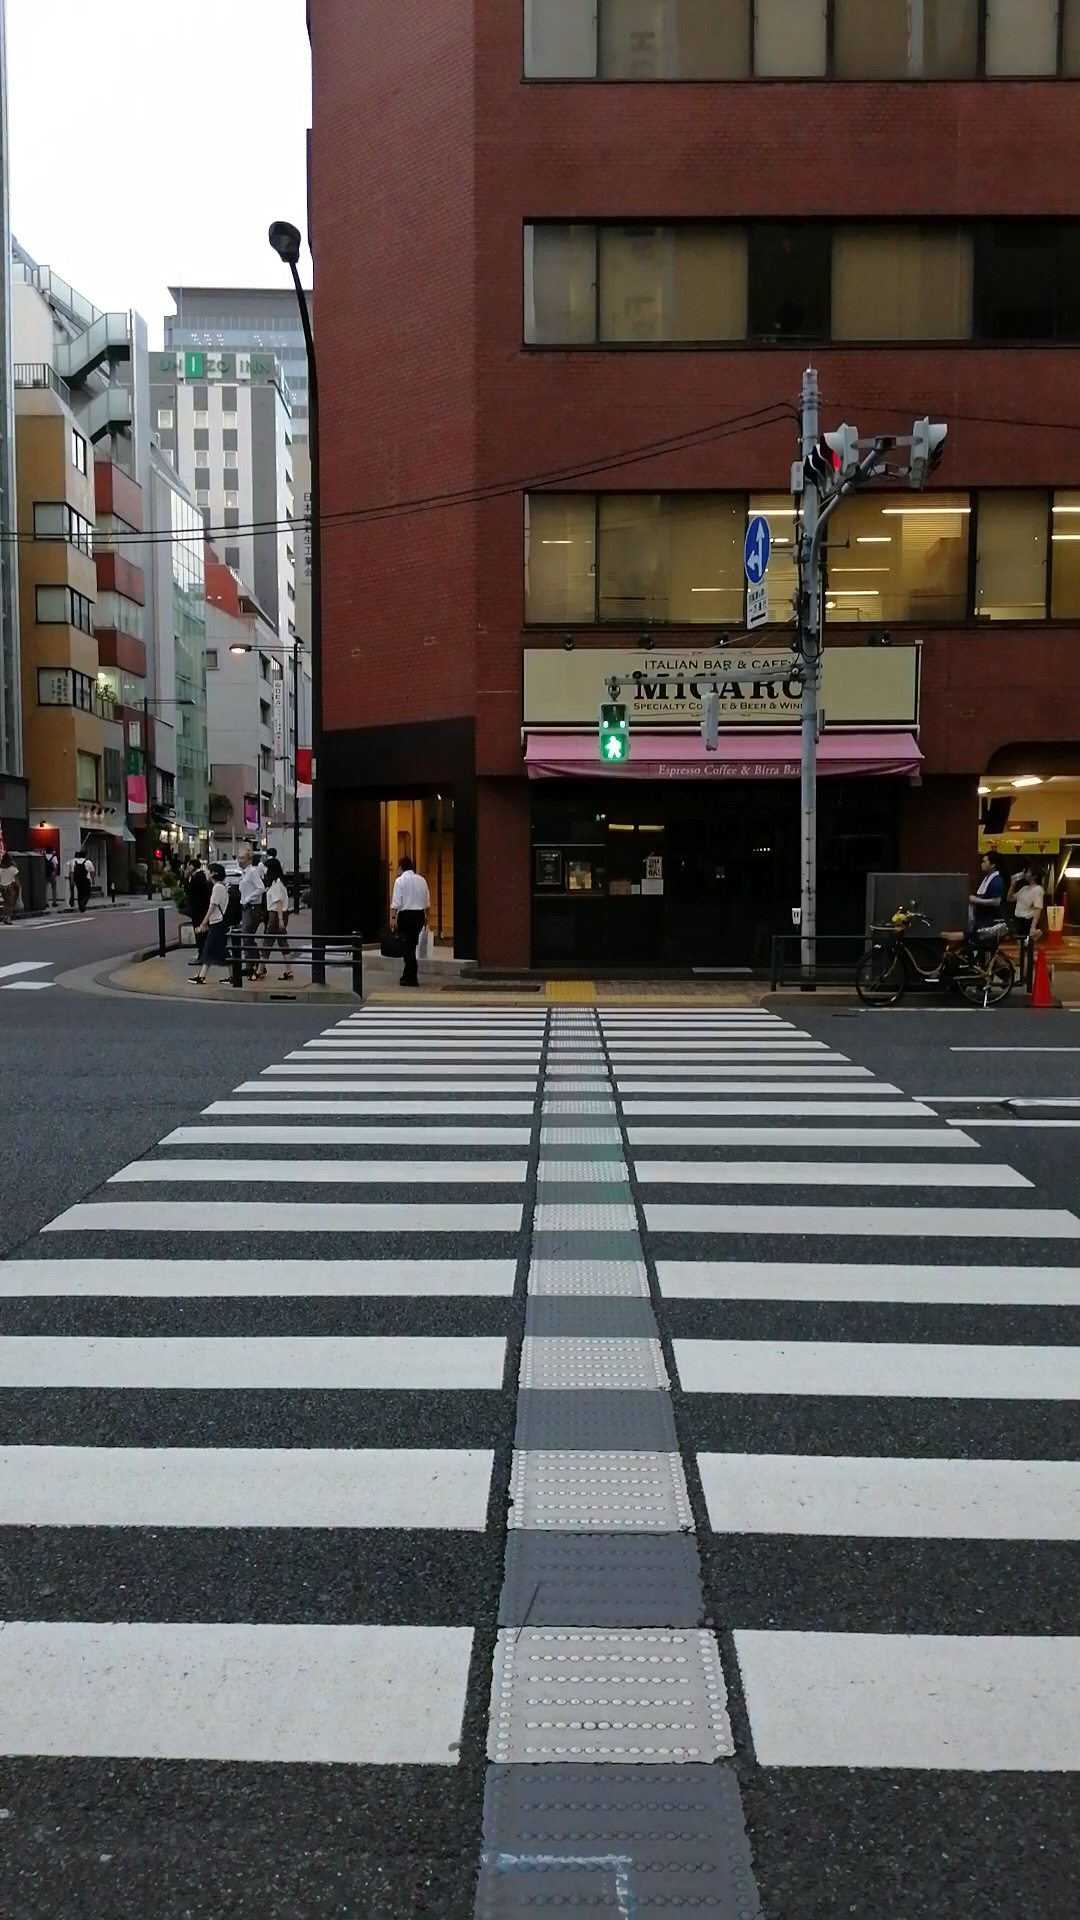green: (597, 700, 629, 764)
